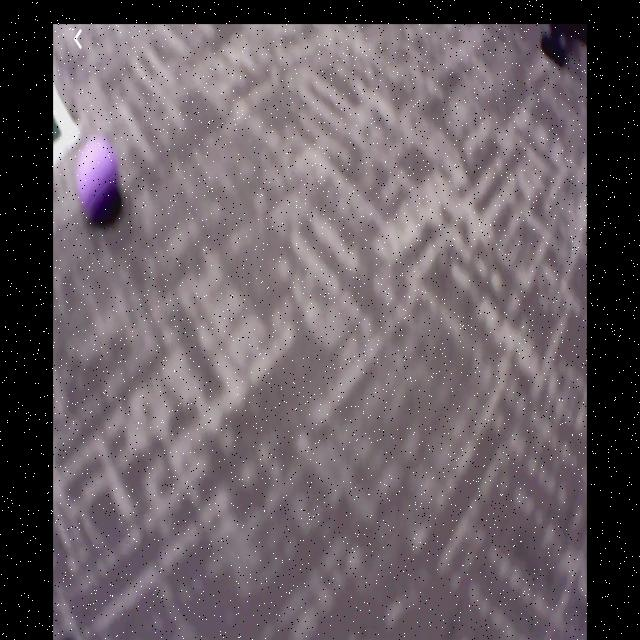ball: (78, 139, 124, 220)
